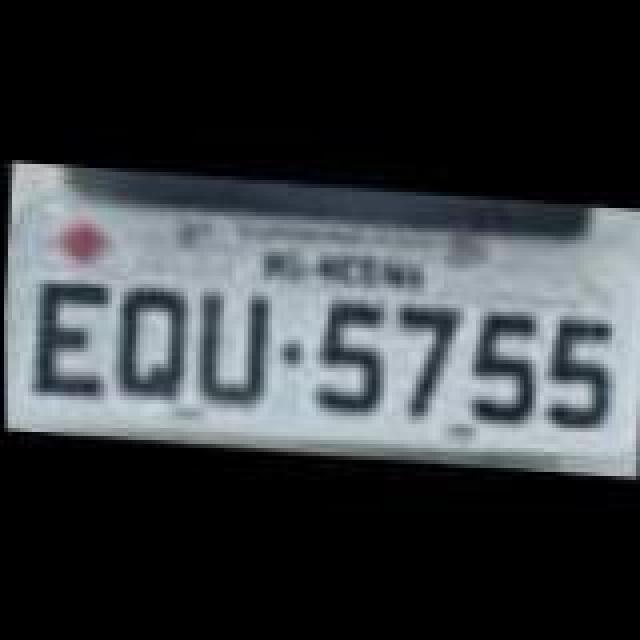5: (548, 310, 628, 434), (468, 302, 548, 422), (314, 298, 390, 418)
7: (392, 298, 464, 426)
E: (24, 272, 112, 400)
Q: (110, 280, 194, 408)
U: (190, 284, 274, 408)
